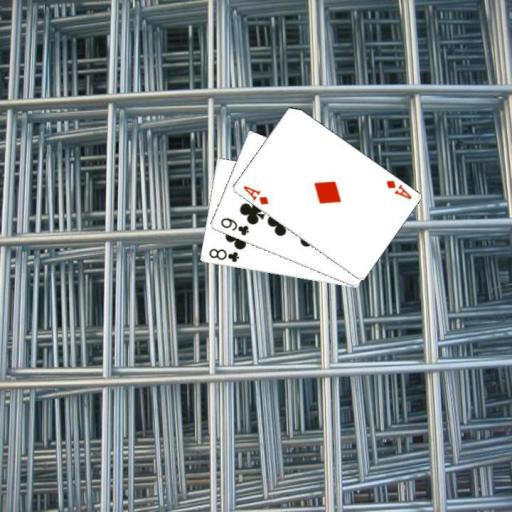8C: (206, 245, 241, 264)
9C: (217, 215, 250, 238)
AD: (240, 182, 270, 206), (383, 177, 413, 201)
